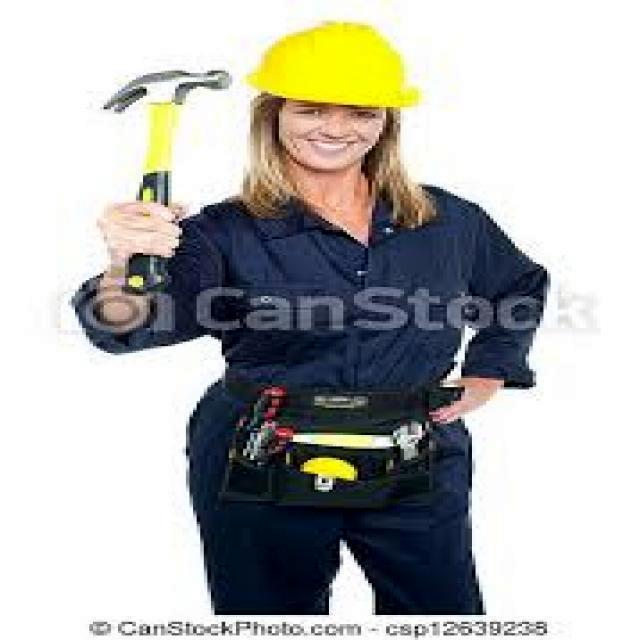hammer: (95, 58, 239, 300)
